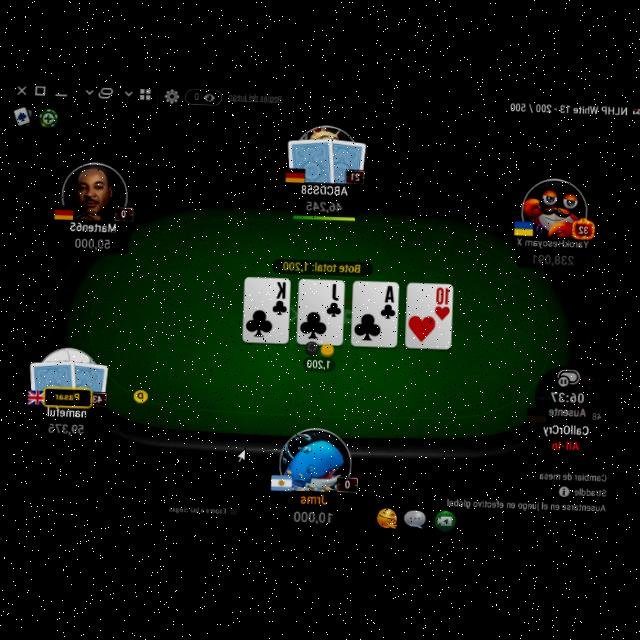Ac: (379, 282, 396, 318)
Jc: (325, 281, 342, 318)
Kc: (272, 278, 288, 314)
Th: (432, 286, 451, 320)
all_in_symbol: (552, 438, 580, 450)
bet_text: (304, 355, 329, 369)
card_back: (283, 132, 336, 184), (26, 354, 80, 404), (322, 135, 368, 185), (68, 358, 110, 406)
dealer: (130, 384, 151, 404)
pot_text: (280, 258, 362, 272)
stack_text: (290, 506, 334, 524), (530, 249, 574, 265), (304, 196, 344, 212), (46, 419, 84, 433), (74, 234, 112, 248)
